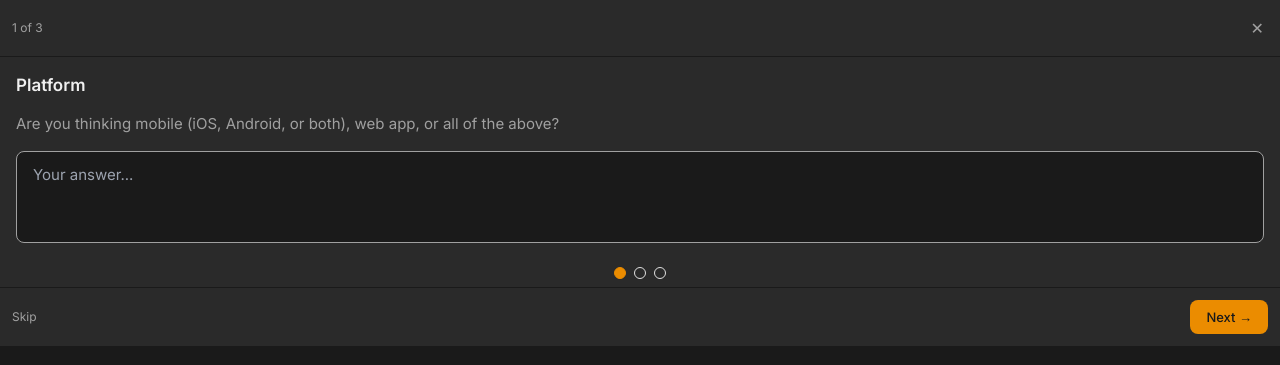
Scenario: QuestionCardStack › navigates to specific question via dot click
Click the button named "question 3": (660, 273) [654,267,666,279]
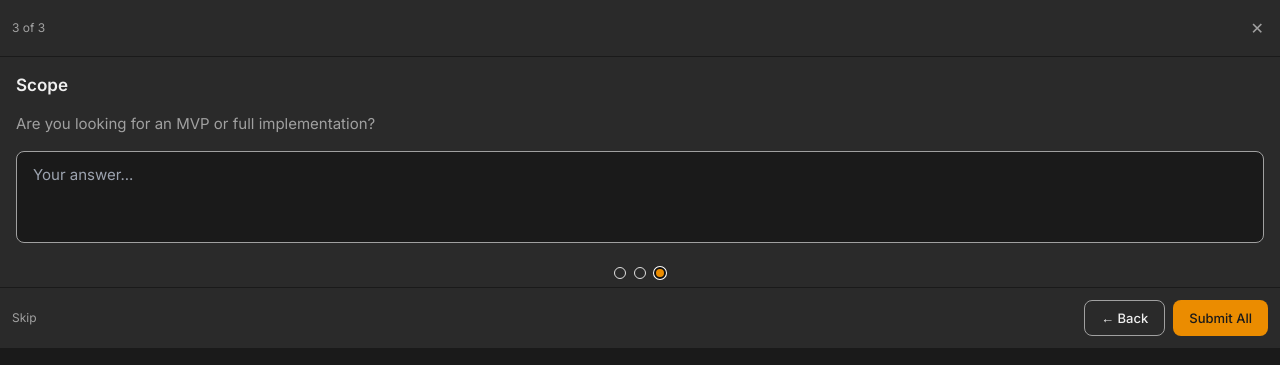
Now the heading "Scope" is shown, box [16,75,68,95]
